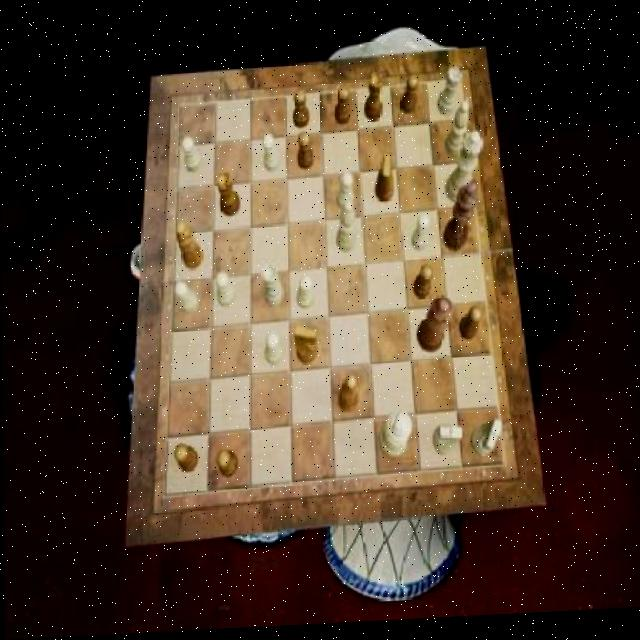bishop: (174, 224, 201, 273), (337, 378, 358, 416)
black-bishop: (441, 185, 477, 259)
black-king: (374, 158, 393, 206), (293, 329, 316, 368)
black-knight: (457, 310, 481, 345), (400, 80, 418, 121), (413, 269, 433, 304), (173, 446, 197, 474), (215, 452, 238, 481), (291, 94, 308, 133), (334, 89, 350, 128), (297, 134, 313, 172)
black-pawn: (416, 300, 453, 358)
black-queen: (215, 174, 238, 220), (363, 75, 382, 125)
black-rook: (445, 106, 469, 161), (335, 204, 356, 257)
white-bishop: (378, 414, 412, 463)
white-king: (469, 424, 502, 462), (431, 428, 461, 461)
white-knight: (174, 283, 197, 316), (410, 218, 429, 255), (214, 274, 234, 309), (181, 140, 201, 175), (262, 136, 279, 176), (337, 175, 354, 213), (264, 333, 282, 368), (296, 278, 313, 313)
white-pawn: (443, 137, 483, 211)
white-queen: (436, 74, 461, 122), (261, 265, 284, 309)
